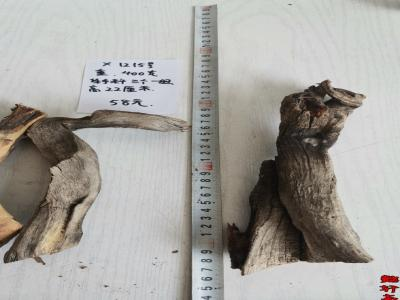Root: (0, 104, 188, 263), (227, 80, 372, 275)
